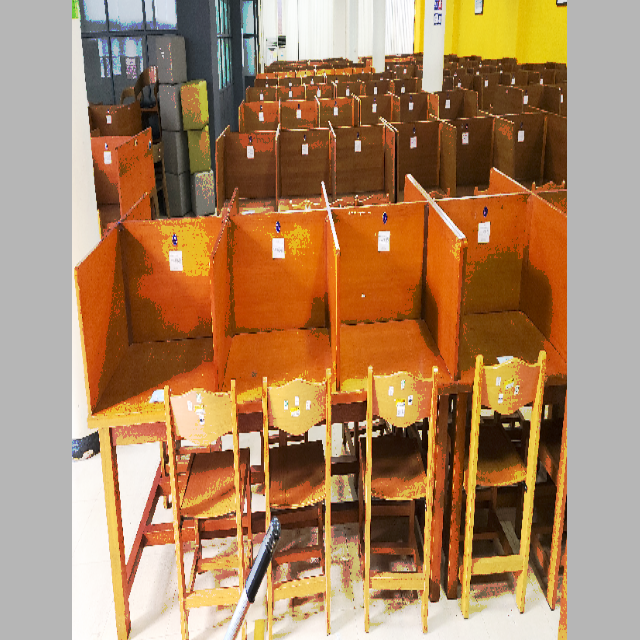empty: (75, 240, 208, 476), (212, 241, 333, 478), (339, 240, 455, 478)
